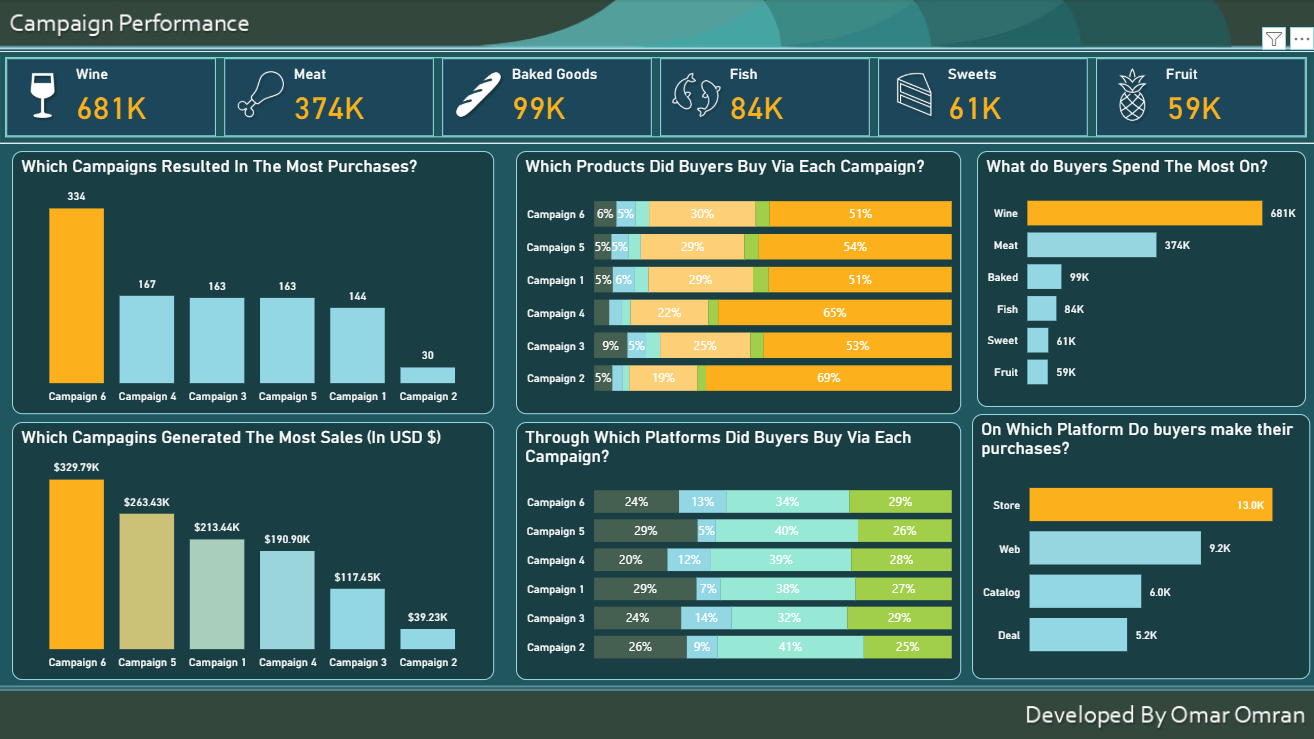

This screenshot's page, from the dashboard's own definition file:
{"tool":"powerbi","page":{"name":"Campaign Peformance","canvas":[1280,720],"ordinal":0},"visuals":[{"type":"clusteredColumnChart","title":"Which Campaigns Resulted In The Most Purchases?","fields":{"Category":["campaign.Campagin"],"Y":["Sum(campaign.Accepted_indicator)"]},"box":[12.6,147.8,468.8,255.8],"z":0},{"type":"clusteredColumnChart","title":"Which Campagins Generated The Most Sales (In USD $)","fields":{"Y":["Sum(products.Total Sales)"],"Category":["campaign.Campagin"]},"box":[12.6,411.4,468.8,250.9],"z":1000},{"type":"hundredPercentStackedBarChart","title":"Which Products Did Buyers Buy Via Each Campaign?","fields":{"Category":["campaign.Campagin"],"Y":["Sum(products.Total Sales)"],"Series":["products.Products"]},"box":[502.9,147.8,432.8,255.8],"z":2000},{"type":"hundredPercentStackedBarChart","title":"Through Which Platforms Did Buyers Buy Via Each Campaign?","fields":{"Category":["campaign.Campagin"],"Series":["deals.Platform"],"Y":["Sum(deals.Quantity)"]},"box":[502.9,411.4,432.8,250.9],"z":3000},{"type":"barChart","title":"On Which Platform Do buyers make their purchases?","fields":{"Y":["Sum(deals.Quantity)"],"Category":["deals.Platform"]},"box":[946,404,329,258],"z":4000},{"type":"barChart","title":"What do Buyers Spend The Most On?","fields":{"Category":["products.Products"],"Y":["Sum(products.Total Sales)"]},"box":[951.2,147.8,320,249],"z":5000},{"type":"cardVisual","fields":{"Data":["Sum(marketmindz_research_data (1).Amount_Wine_Products)","Sum(marketmindz_research_data (1).Amout_Meat_Products)","Sum(marketmindz_research_data (1).Amout_Baked_Products)","Sum(marketmindz_research_data (1).Amout_Fish_Products)","Sum(marketmindz_research_data (1).Amount_Sweet_Products)","Sum(marketmindz_research_data (1).Amout_Fruit_Products)"]},"box":[0,50.6,1280,90.5],"z":6000}]}

Visuals, with their boxes in screenshot pixels (x1, y1, x2, y2), scaled from the page's 1280x720 canvas onto the 1314x739 screenshot:
"Which Campaigns Resulted In The Most Purchases?" clusteredColumnChart: {"x1": 13, "y1": 152, "x2": 494, "y2": 414}
"Which Campagins Generated The Most Sales (In USD $)" clusteredColumnChart: {"x1": 13, "y1": 422, "x2": 494, "y2": 680}
"Which Products Did Buyers Buy Via Each Campaign?" hundredPercentStackedBarChart: {"x1": 516, "y1": 152, "x2": 961, "y2": 414}
"Through Which Platforms Did Buyers Buy Via Each Campaign?" hundredPercentStackedBarChart: {"x1": 516, "y1": 422, "x2": 961, "y2": 680}
"On Which Platform Do buyers make their purchases?" barChart: {"x1": 971, "y1": 415, "x2": 1309, "y2": 679}
"What do Buyers Spend The Most On?" barChart: {"x1": 976, "y1": 152, "x2": 1305, "y2": 407}
cardVisual - Sum(marketmindz_research_data (1).Amount_Wine_Products) x Sum(marketmindz_research_data (1).Amout_Meat_Products): {"x1": 0, "y1": 52, "x2": 1313, "y2": 145}
